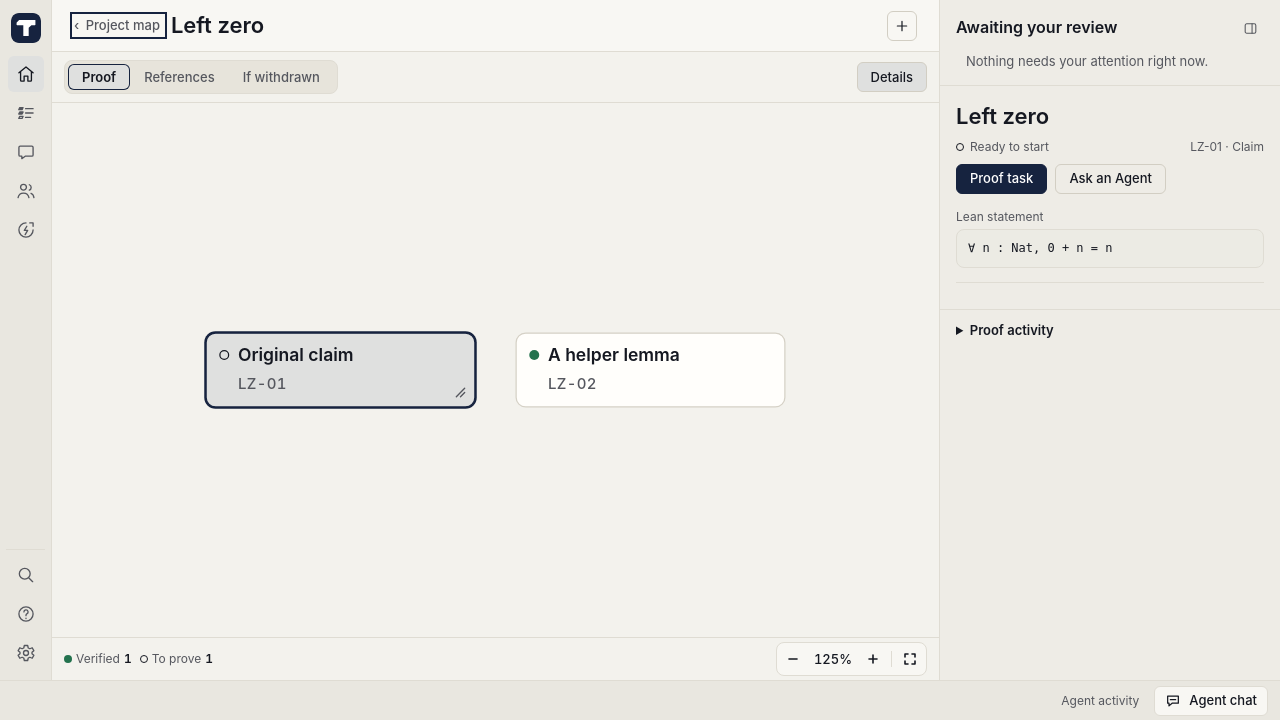
Scenario: App › stops online polling, handles durable and runtime changes, and resumes fallback for a stalled stream
Click the button "Proof task" at (1002, 179), box [956,164,1047,194]
Wait 50830 ms
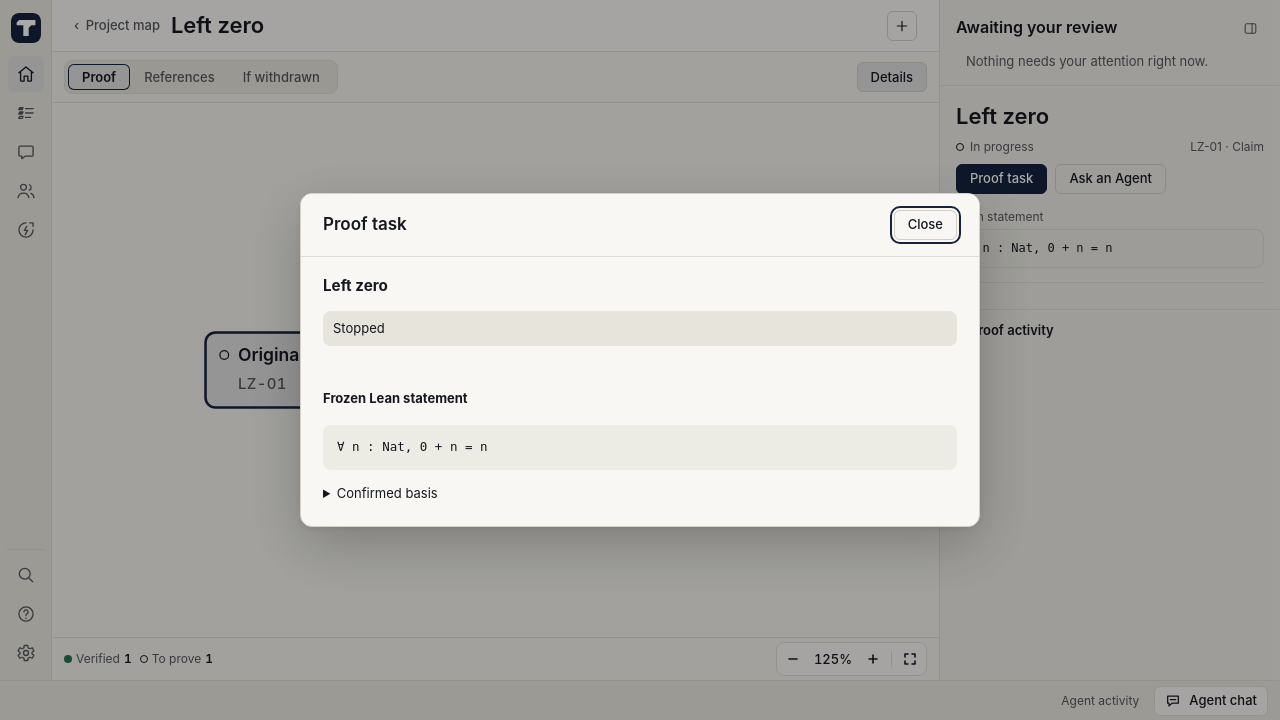
Check: the text "Stopped" is shown, box [323,311,957,346]
